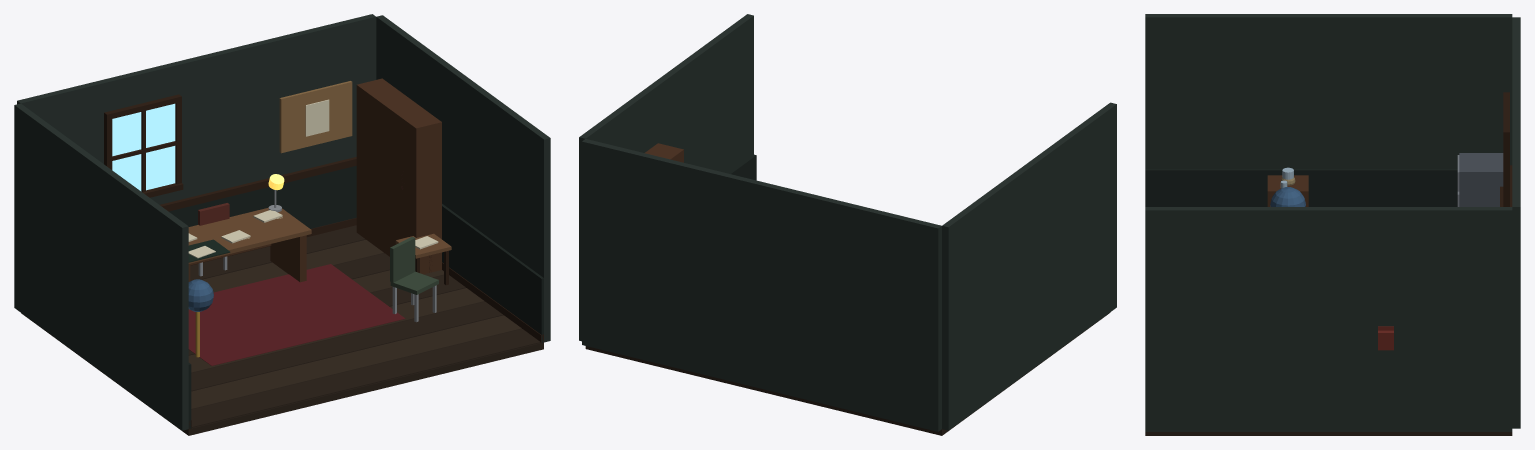
File: ashby_office.glb
3 renders of one model, left to right at view 1: azimuth 30°, elevation 25°; view 2: azimuth 150°, elevation 25°; view 3: azimuth 270°, elevation 25°, orthographic. The views are drawn at different scales.
Visible parts, largest first — view 1: WallLeft, WallBack, WallRight, Bookcase, Rug, Plank0, Plank1, BandRight, Plank2, BandBack, WinGlass, Cork (+19 smaller); view 2: WallBack, WallLeft, WallRight, Floor; view 3: WallRight, WallLeft, BandLeft, WallBack, Cabinet, Floor, DecTable, Globe, WinFrameR.
Part boxes in pixels (x1,y1,x2,y2): WallLeft: (14,103,188,430); WallBack: (17,14,376,204); WallRight: (376,15,550,342); Bookcase: (356,78,441,274); Rug: (188,264,405,365); Plank0: (191,329,540,427); Plank1: (191,315,521,409); BandRight: (442,204,543,342); Plank2: (191,301,502,391); BandBack: (169,166,356,228); WinGlass: (112,103,175,191); Cork: (279,81,352,153); WallBack: (582,139,941,431); WallLeft: (942,102,1116,430); WallRight: (579,14,753,341); Floor: (585,312,1110,435); WallRight: (1145,207,1512,431); WallLeft: (1145,14,1512,168); BandLeft: (1145,169,1457,206); WallBack: (1512,17,1520,428); Cabinet: (1459,153,1503,206); Floor: (1145,432,1512,435); DecTable: (1267,175,1308,206); Globe: (1270,187,1305,206); WinFrameR: (1503,138,1509,206).
Bounding box in the file's own units: 5.79 × 3.1 × 4.6.
